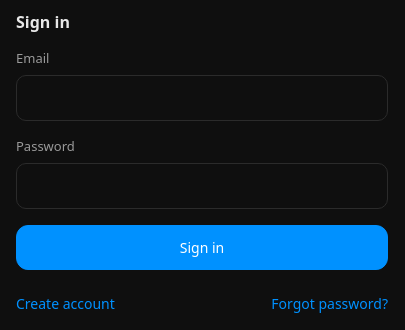
Test: SignInScreen › asks before a session for another account takes a device with unsent changes
Step 1. Type "someone@example.com" into the field labelled "Email" → [202, 98], box [16,75,388,121]
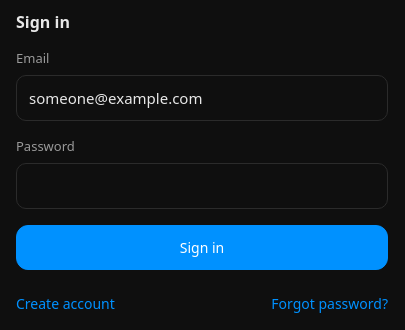
Step 2. Type "a-long-enough-password" into the password field labelled "Password" → [202, 186], box [16,163,388,209]
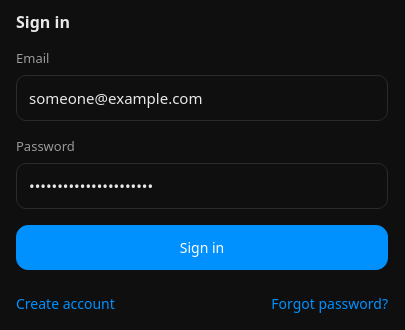
Step 3. Click the button "Sign in" → [202, 248], box [16,225,388,270]
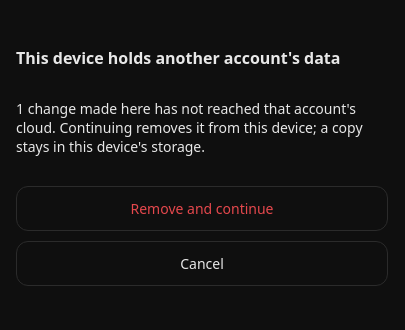
expect the heading "This device holds another account's data" is shown: met, box [16,46,388,68]
expect the text "1 change made here has not reached" is shown: met, box [16,98,388,156]
